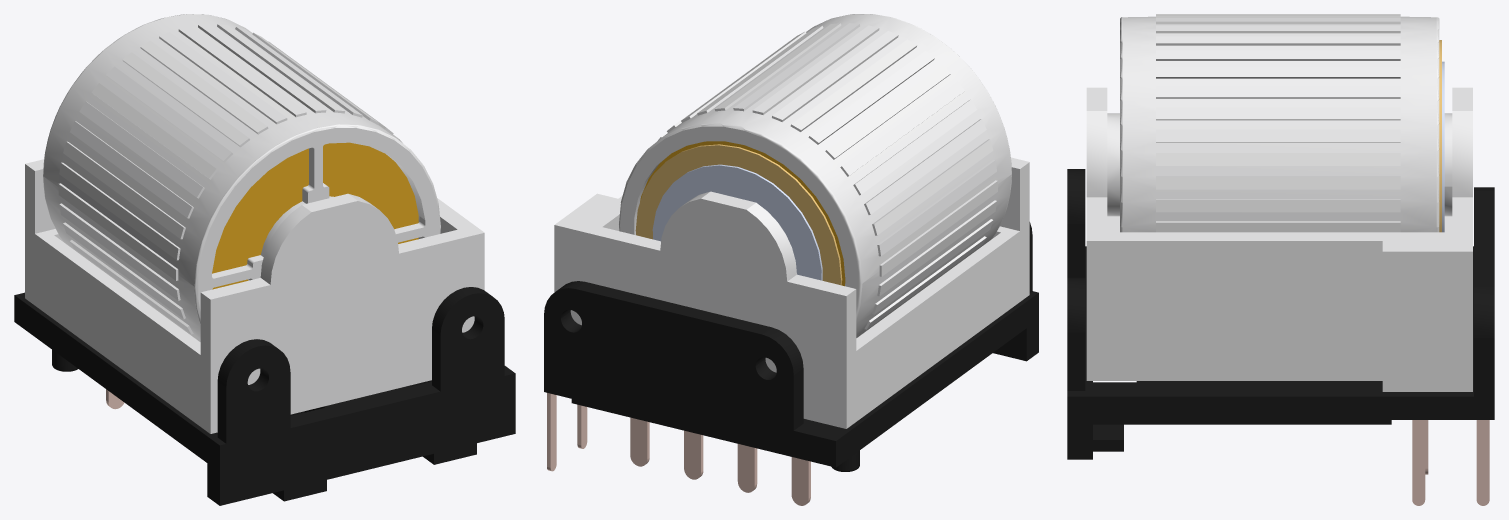
File: sfe-roller_encoder.glb
3 views of the same model, side by side, from view 1: azimuth 30°, elevation 25°; view 2: azimuth 150°, elevation 25°; view 3: azimuth 270°, elevation 25° (orthographic). The views are drawn at different scales.
Parts seen in each view (by area): view 1: 0.9166666666666666_0.9166666666666666_0.9166666666666666_0.8, 0_0_0_0, 0.8333333333333334_0.4166666666666667_0_0; view 2: 0.9166666666666666_0.9166666666666666_0.9166666666666666_0.8, 0_0_0_0, 0.9166666666666666_0.5833333333333334_0.16666666666666666_0, 0.75_0.8333333333333334_1_0, 0.8333333333333334_0.5833333333333334_0.5833333333333334_0, 0.8333333333333334_0.4166666666666667_0_0; view 3: 0.9166666666666666_0.9166666666666666_0.9166666666666666_0.8, 0_0_0_0, 0.8333333333333334_0.5833333333333334_0.5833333333333334_0, 0.9166666666666666_0.5833333333333334_0.16666666666666666_0, 0.75_0.8333333333333334_1_0.
Part boxes in pixels (x1=…): 0.9166666666666666_0.9166666666666666_0.9166666666666666_0.8: x1=25, y1=14, x2=484, y2=433; 0_0_0_0: x1=14, y1=287, x2=515, y2=505; 0.8333333333333334_0.4166666666666667_0_0: x1=212, y1=142, x2=418, y2=289; 0.9166666666666666_0.9166666666666666_0.9166666666666666_0.8: x1=554, y1=14, x2=1029, y2=428; 0_0_0_0: x1=544, y1=222, x2=1038, y2=471; 0.9166666666666666_0.5833333333333334_0.16666666666666666_0: x1=635, y1=144, x2=842, y2=285; 0.75_0.8333333333333334_1_0: x1=652, y1=164, x2=822, y2=280; 0.8333333333333334_0.5833333333333334_0.5833333333333334_0: x1=547, y1=393, x2=810, y2=505; 0.8333333333333334_0.4166666666666667_0_0: x1=640, y1=141, x2=845, y2=286; 0.9166666666666666_0.9166666666666666_0.9166666666666666_0.8: x1=1086, y1=14, x2=1472, y2=391; 0_0_0_0: x1=1067, y1=169, x2=1494, y2=459; 0.8333333333333334_0.5833333333333334_0.5833333333333334_0: x1=1412, y1=420, x2=1489, y2=505; 0.9166666666666666_0.5833333333333334_0.16666666666666666_0: x1=1439, y1=40, x2=1441, y2=232; 0.75_0.8333333333333334_1_0: x1=1442, y1=61, x2=1444, y2=232.
Size of the model in its own units: 1.39 by 1.68 by 1.66.
